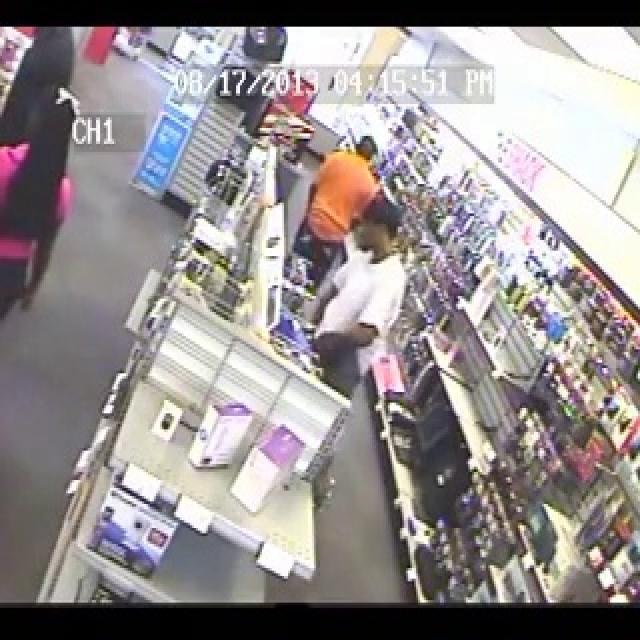Normal: (0, 29, 640, 602)
